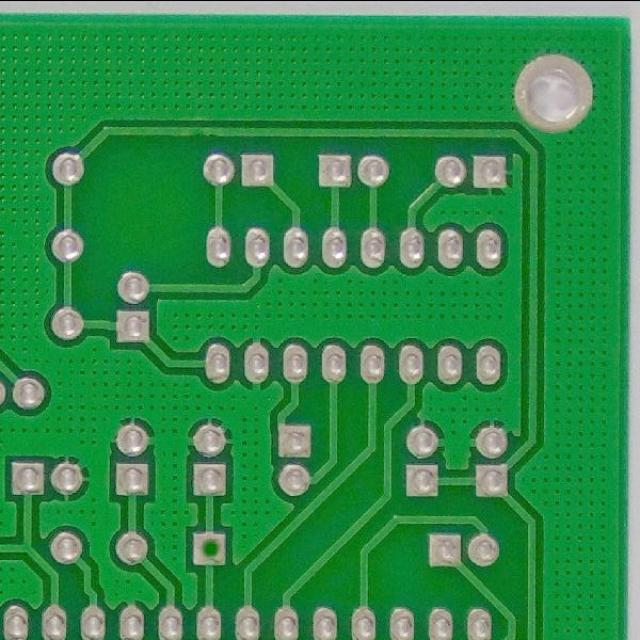missing_hole: (188, 527, 231, 567)
